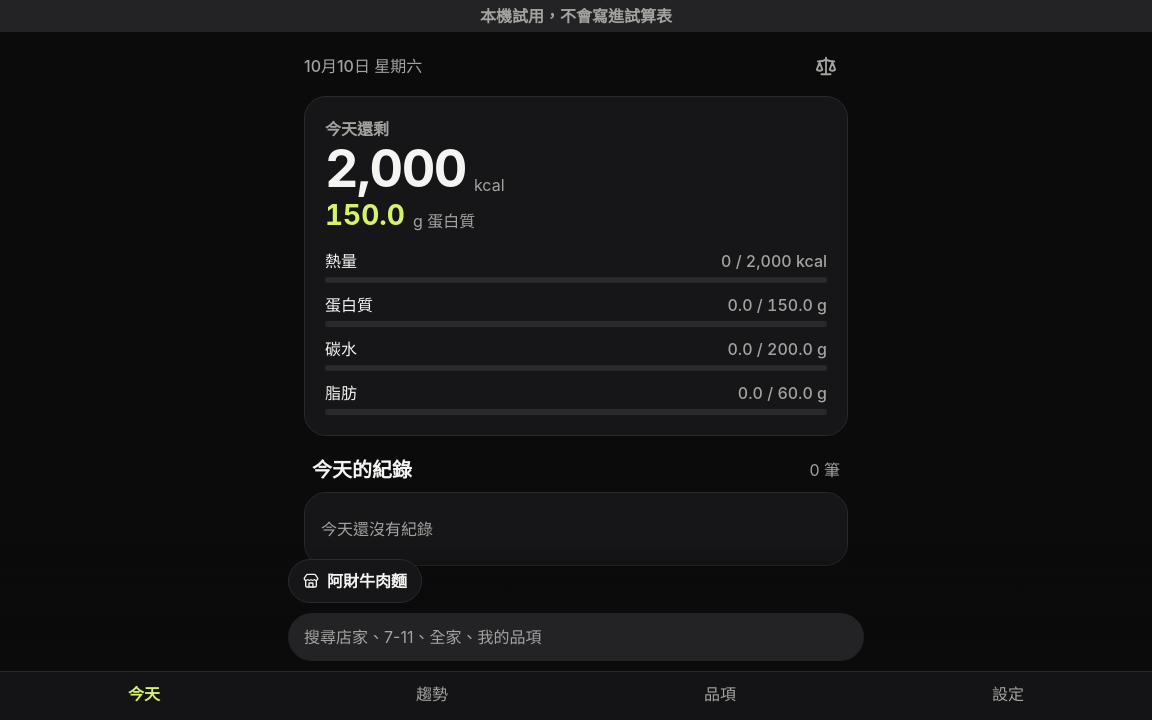
Test: 搜尋到記錄：搜尋框、結果、記錄，三次 click
The image size is (1152, 720).
Click the button "搜尋店家、7-11、全家、我的品項" at (423, 637), box [288, 613, 864, 661]
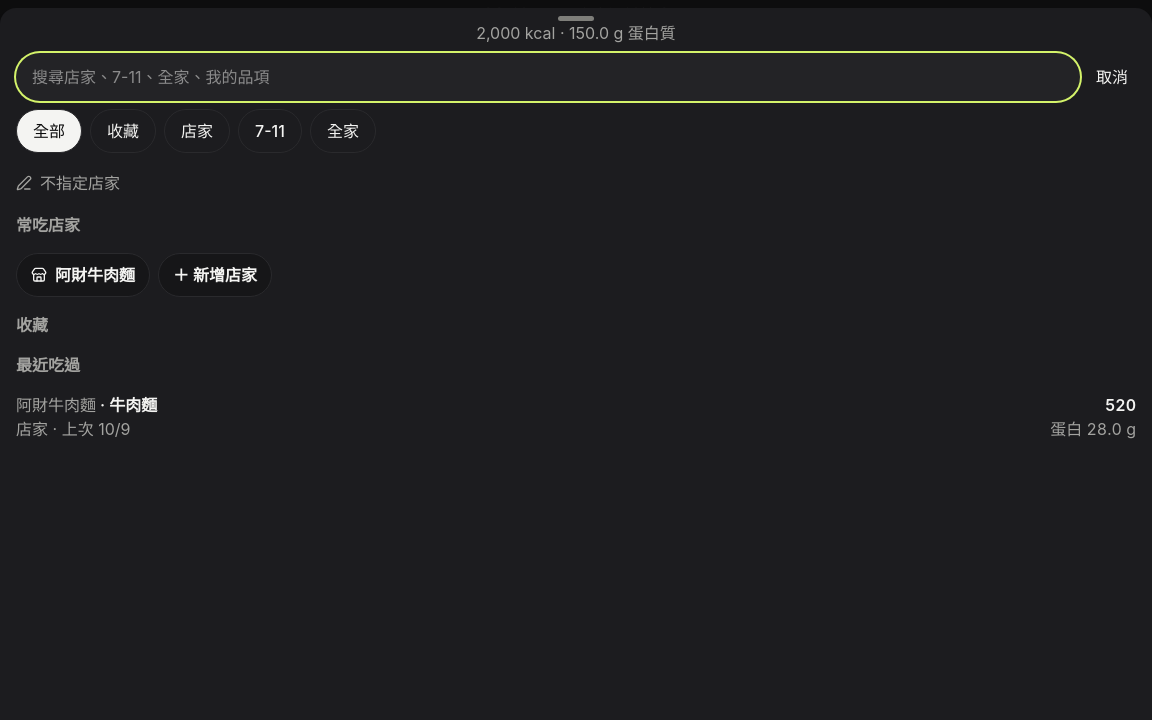
Type "牛肉" into the search field at (548, 77), box [16, 53, 1080, 101]
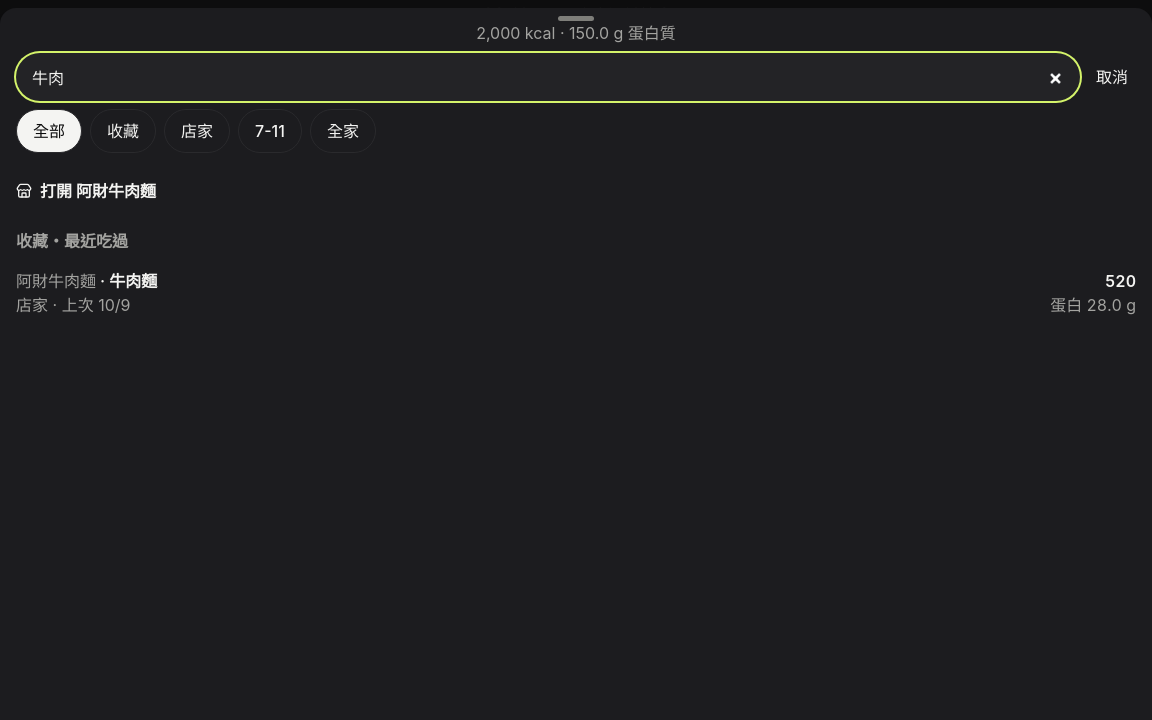
Click the button with aria-label "店家品項" at (56, 281), box [0, 261, 1151, 325]
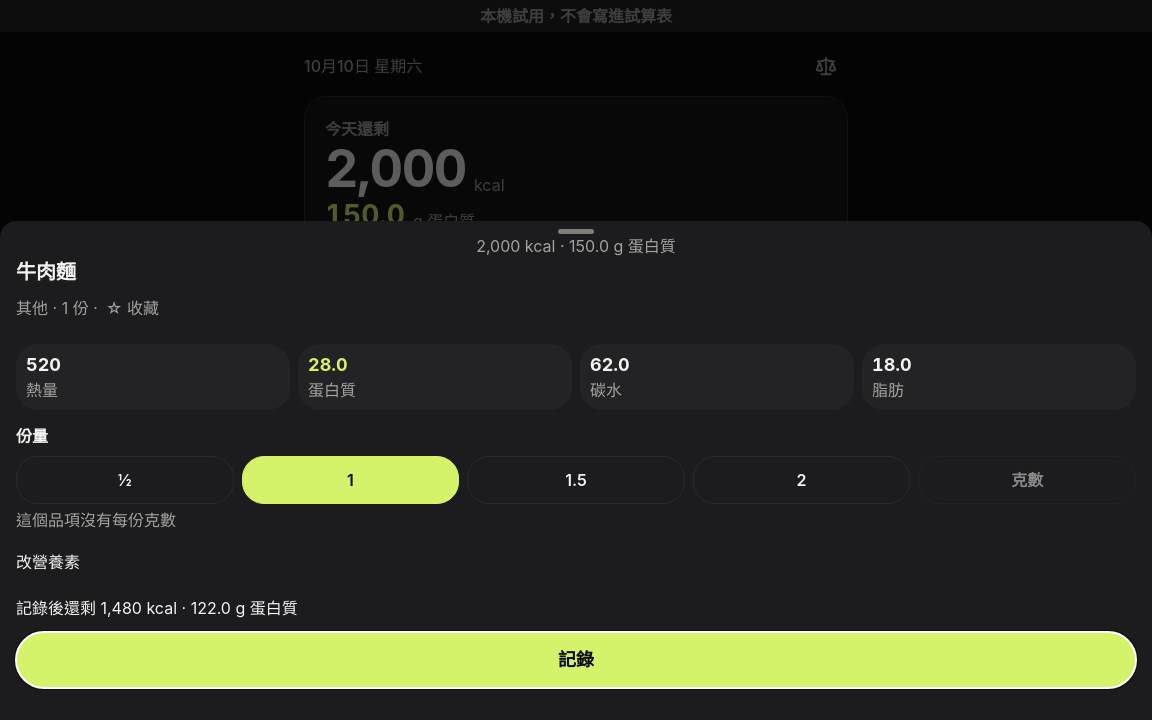
Click the button "記錄" at (576, 660), box [16, 632, 1136, 688]
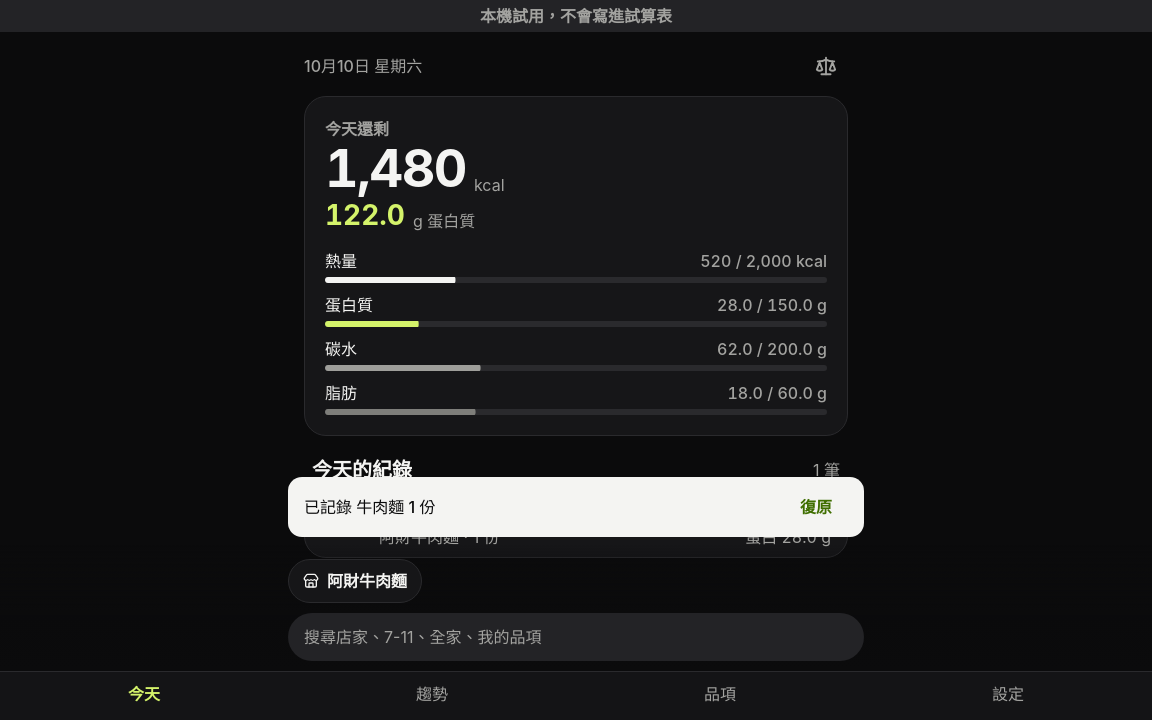
Check: the text "牛肉麵" is shown, box [379, 503, 427, 523]
